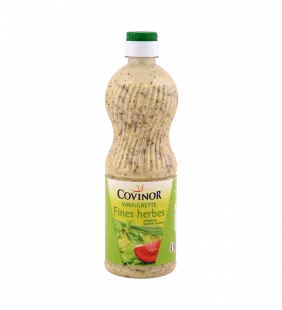COVINOR: (93, 20, 188, 284)
